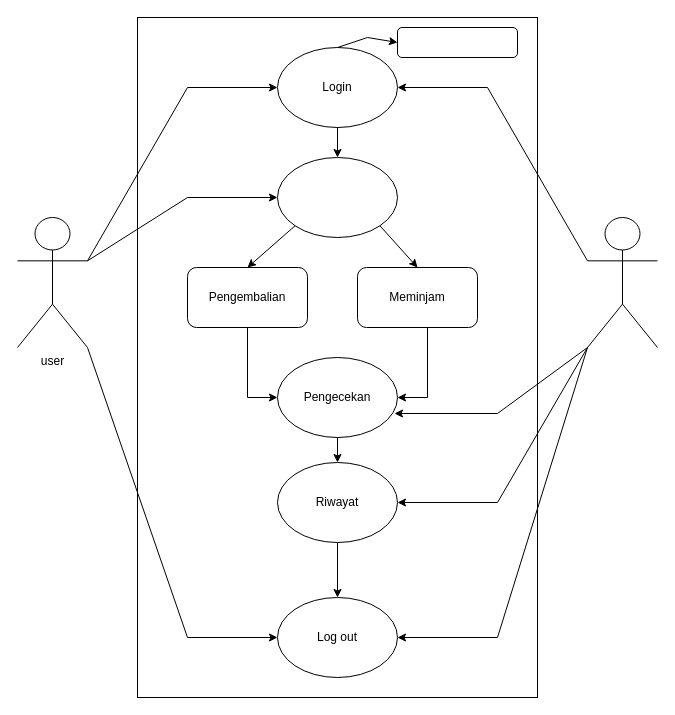
This 675x715 diagram has some shape labels left out. The shapes that lost their labels are listed below. From the top down, each one's centre as x and y in pixels, then its label:
At point 457,42: "Buat akun".
At point 337,197: "Peminjaman".
At point 622,282: "guru".
